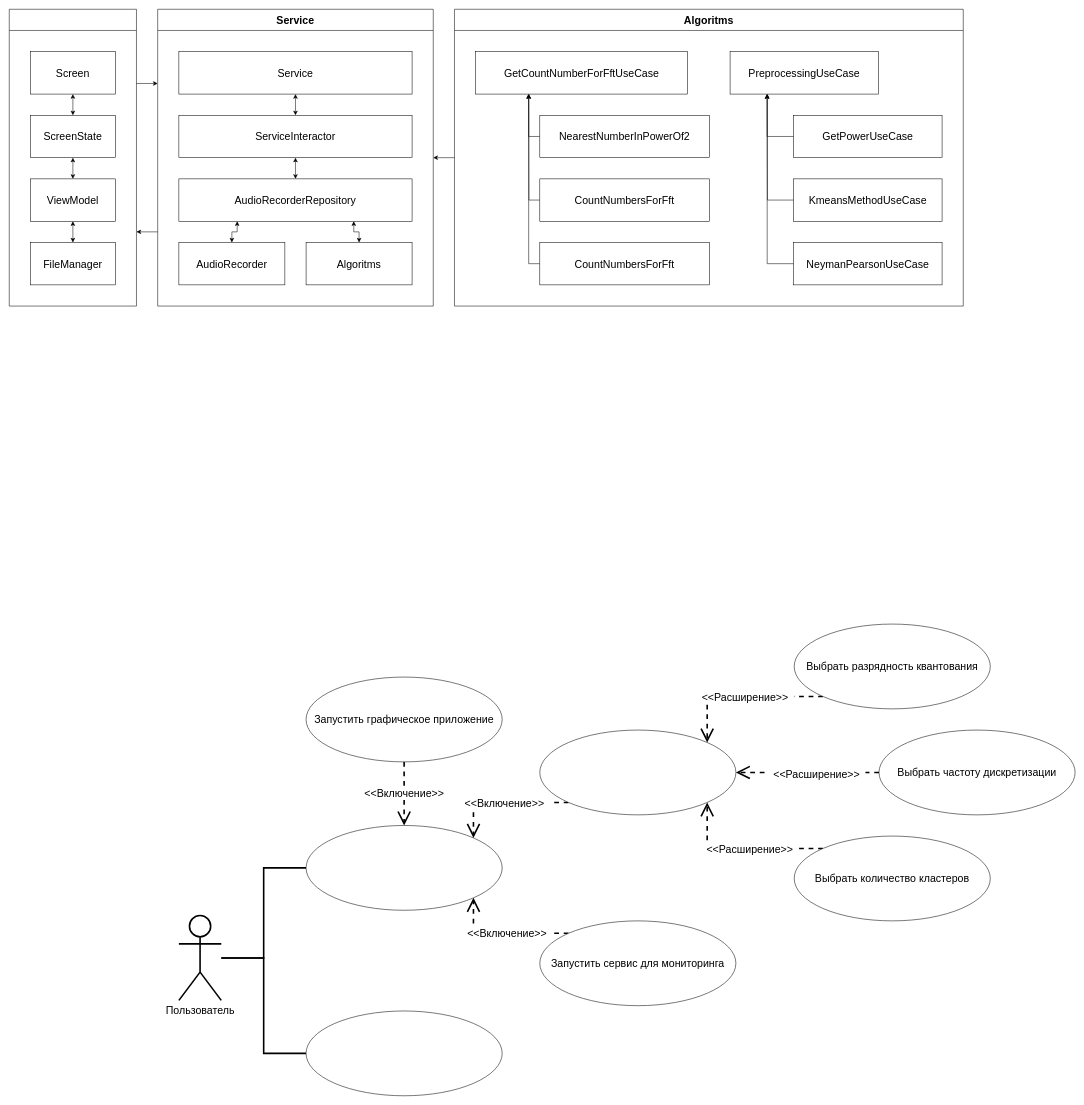
This 1084x1105 diagram has some shape labels left out. Each missing label, with the box of its shape:
App: (9, 9, 136, 306)
Запустить систему мониторинга: (306, 825, 502, 910)
Остановить систему мониторинга: (306, 1010, 502, 1096)
Подобрать конфигурацию записи микрофона: (539, 730, 736, 815)
